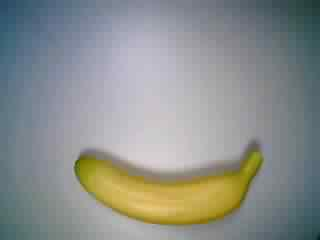banana: (69, 146, 277, 231)
